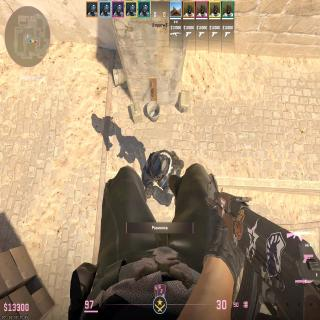CT-Body: (141, 149, 185, 207), (152, 154, 166, 176)
